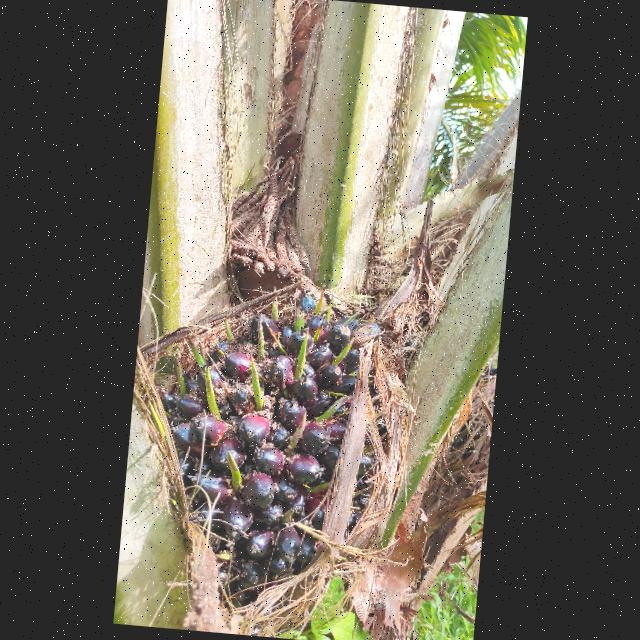Unripe: (169, 296, 390, 600)
